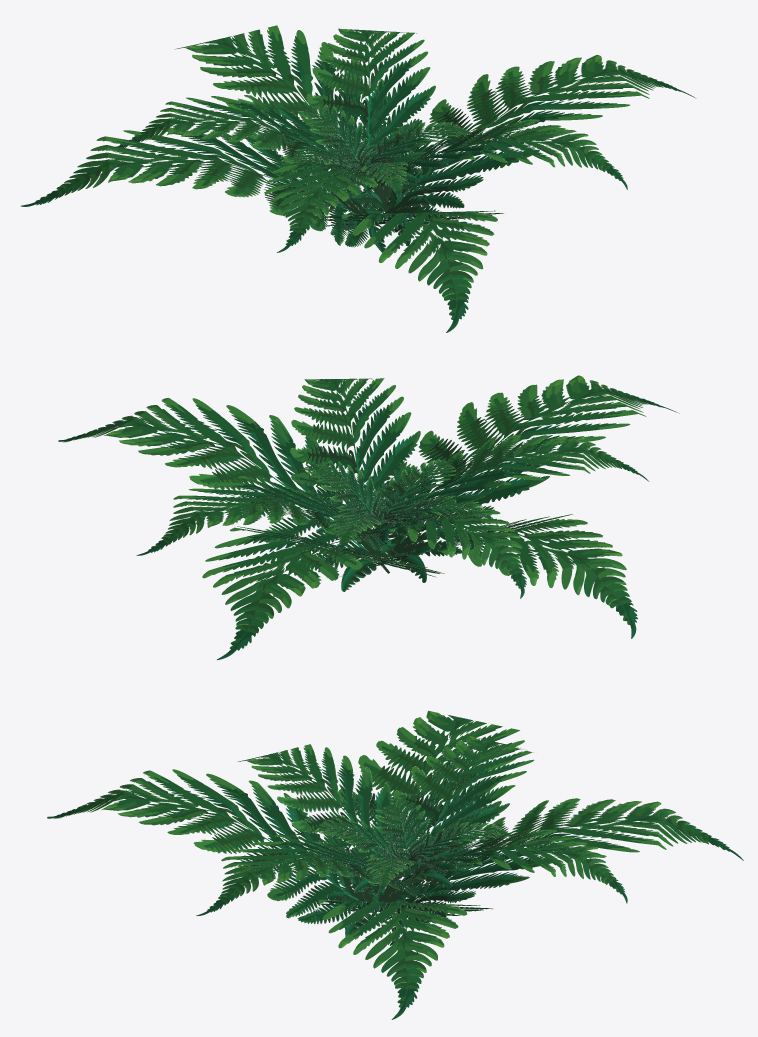
Rendered from fern01.fbx.
3 renders of one model, top to bottom at view 1: azimuth 30°, elevation 25°; view 2: azimuth 150°, elevation 25°; view 3: azimuth 270°, elevation 25°, orthographic. The views are drawn at different scales.
Visible parts, largest first — view 1: fern01; view 2: fern01; view 3: fern01.
Boxes of the visible parts, x1,y1,x2,y2 form: fern01: (21, 25, 696, 332); fern01: (58, 375, 679, 660); fern01: (47, 710, 743, 1019).
Bounding box in the file's own units: 453 × 68.97 × 452.
